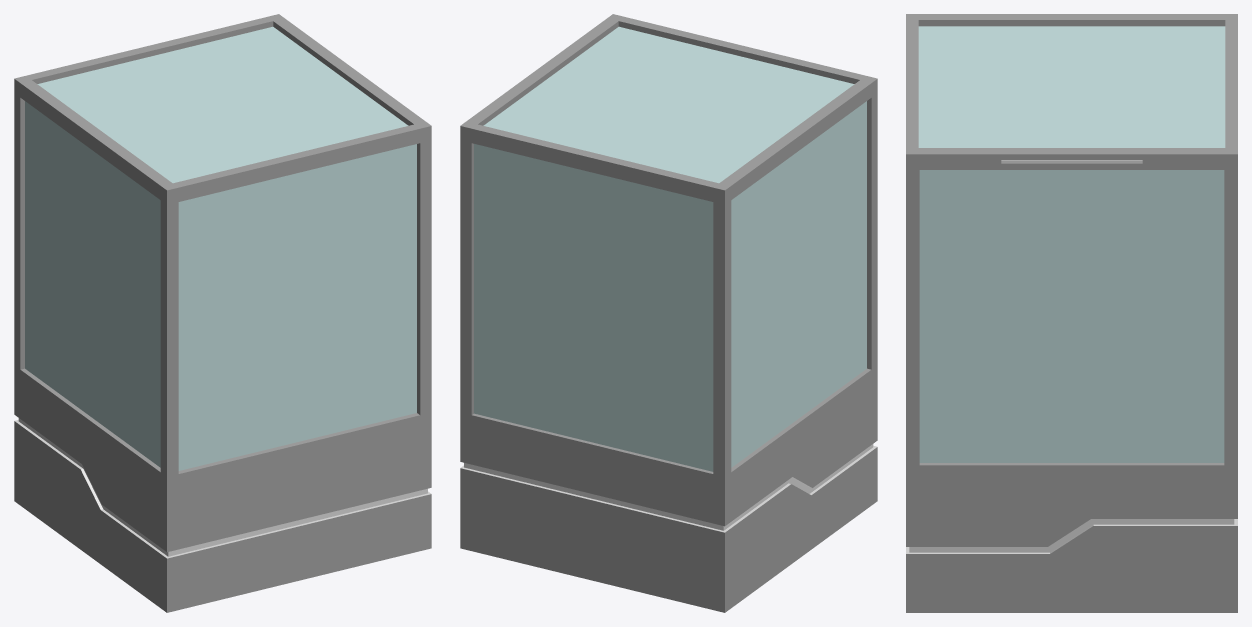
3 renders of one model, left to right at view 1: azimuth 30°, elevation 25°; view 2: azimuth 150°, elevation 25°; view 3: azimuth 270°, elevation 25°, orthographic. The views are drawn at different scales.
Visible parts, largest first — view 1: pCube38, pCube17, pCube20, pCube21; view 2: pCube38, pCube18, pCube20, pCube21; view 3: pCube19, pCube38, pCube21, pCube16.
Boxes of the visible parts, x1,y1,x2,y2 form: pCube38: [14, 14, 431, 612]; pCube17: [178, 144, 416, 470]; pCube20: [25, 101, 160, 467]; pCube21: [37, 26, 408, 183]; pCube38: [460, 14, 877, 612]; pCube18: [474, 144, 713, 471]; pCube20: [731, 101, 866, 467]; pCube21: [483, 26, 854, 183]; pCube19: [919, 170, 1224, 462]; pCube38: [906, 14, 1237, 612]; pCube21: [918, 26, 1225, 147]; pCube16: [1001, 160, 1142, 163].
Size of the model in its own units: 3.06 by 4.65 by 3.05.
